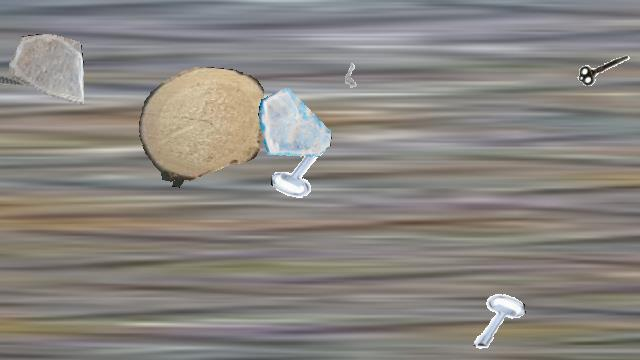glass: (9, 34, 83, 108), (258, 85, 332, 159)
metal: (271, 139, 333, 201), (466, 290, 526, 350), (575, 42, 633, 100), (0, 43, 32, 105), (332, 52, 370, 90)
wood: (139, 67, 263, 189)
